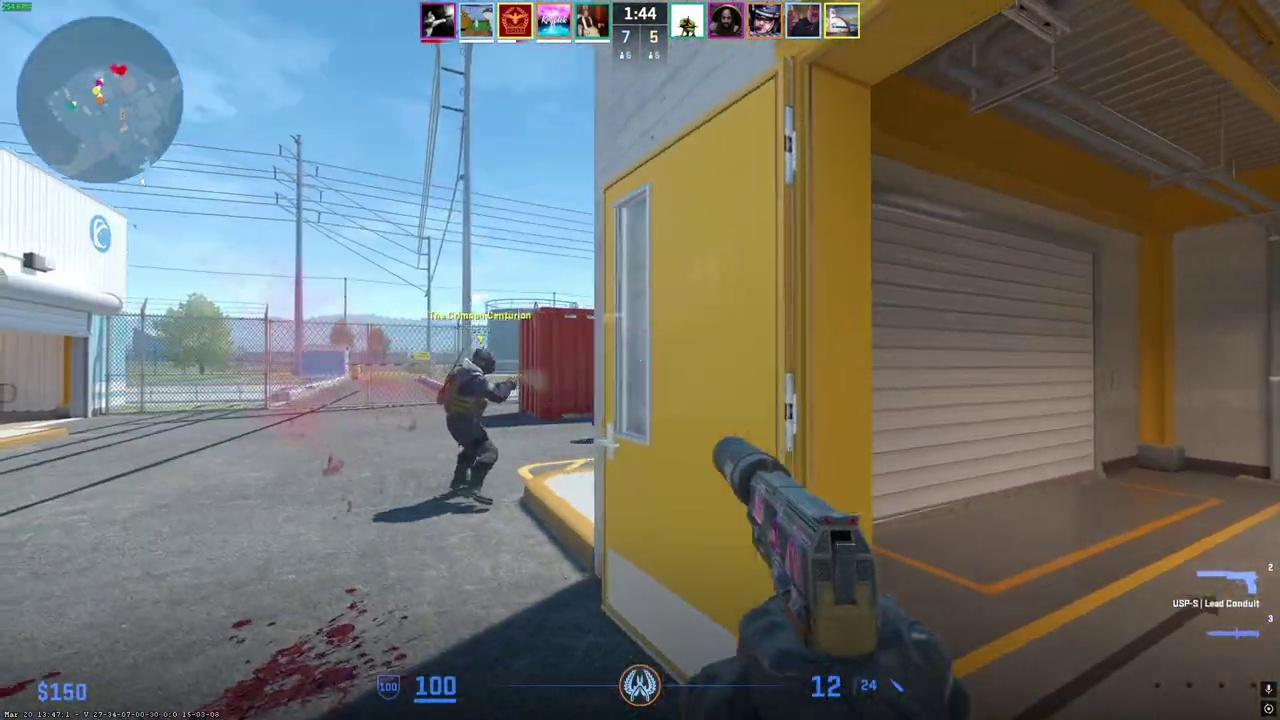CT: (443, 348, 505, 503)
